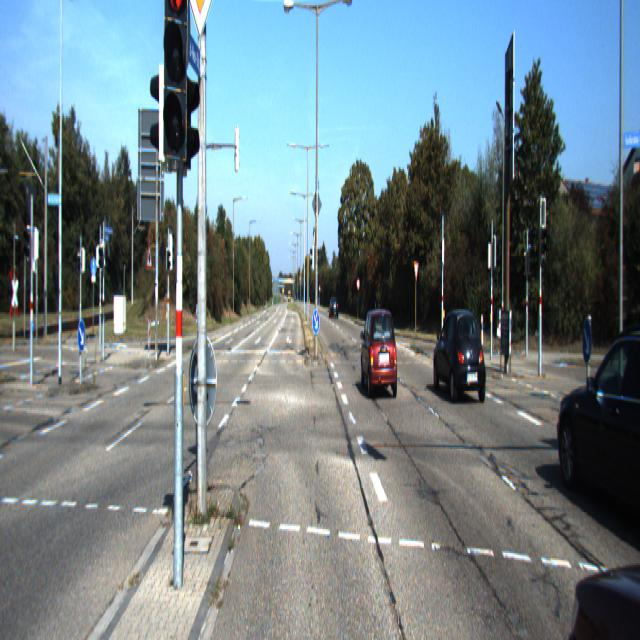Car: (559, 386, 640, 638), (556, 316, 640, 544), (433, 306, 486, 406), (361, 308, 398, 400)
